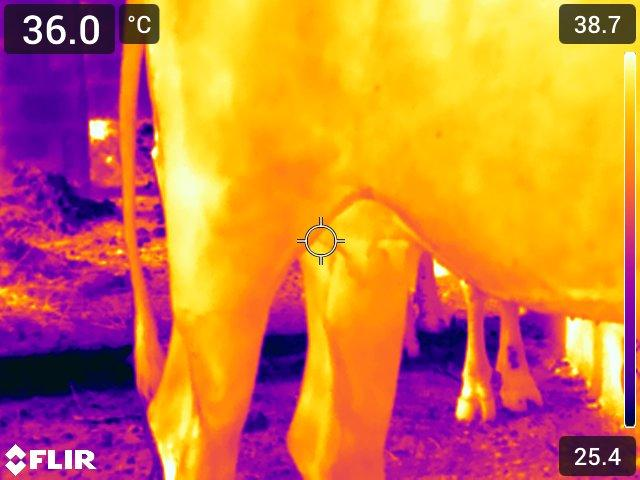udder: (297, 187, 473, 311)
